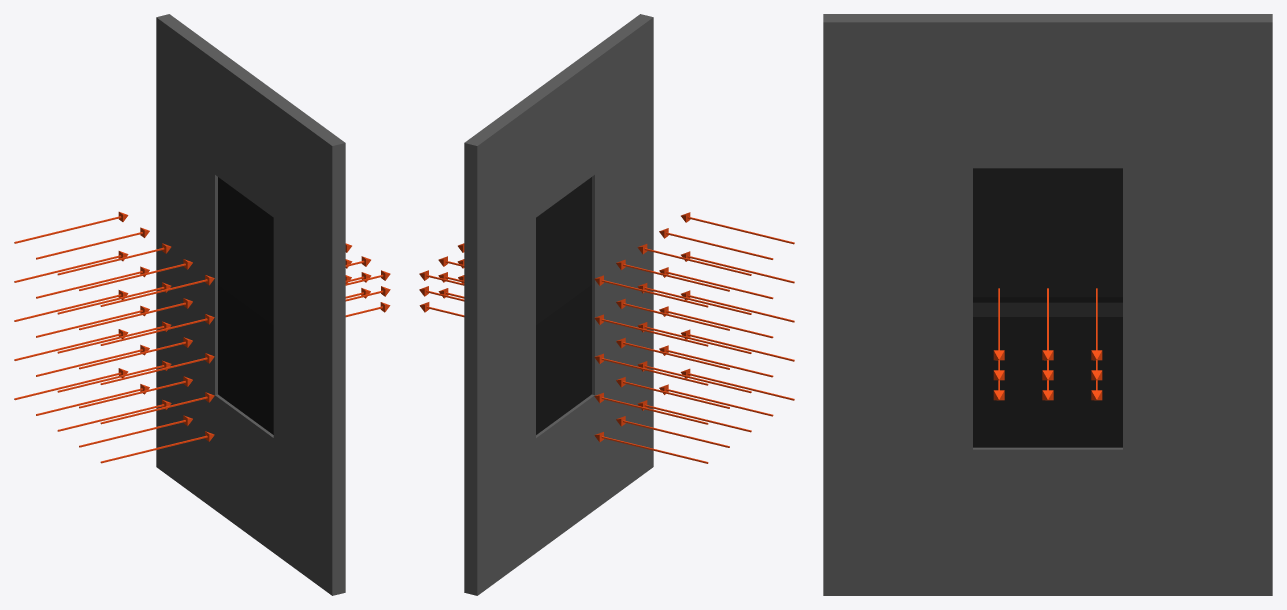
Rendered from barrier.glb.
3 views of the same model, side by side, from view 1: azimuth 30°, elevation 25°; view 2: azimuth 150°, elevation 25°; view 3: azimuth 270°, elevation 25° (orthographic). The views are drawn at different scales.
Visible parts, largest first — view 1: Wall, Rays, Slit2, Slit1; view 2: Wall, Rays, Slit2, Slit1; view 3: Wall, Slit2, Slit1, ArrowUp.
Boxes of the visible parts, x1=… form: Wall: x1=156, y1=14, x2=345, y2=595; Rays: x1=14, y1=211, x2=214, y2=463; Slit2: x1=218, y1=285, x2=273, y2=434; Slit1: x1=218, y1=177, x2=273, y2=324; Wall: x1=464, y1=14, x2=653, y2=595; Rays: x1=594, y1=212, x2=794, y2=463; Slit2: x1=536, y1=284, x2=591, y2=434; Slit1: x1=536, y1=177, x2=591, y2=324; Wall: x1=823, y1=14, x2=1272, y2=595; Slit2: x1=973, y1=302, x2=1122, y2=447; Slit1: x1=973, y1=168, x2=1122, y2=302; ArrowUp: x1=993, y1=288, x2=1102, y2=360.
Bounding box in the file's own units: 104 × 143 × 101.
